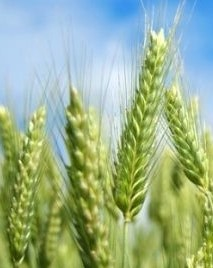Healthy Wheat: (109, 23, 171, 216)
